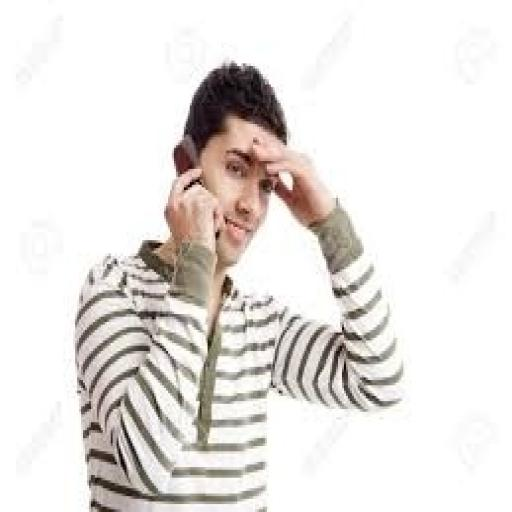calling: (71, 58, 405, 509)
